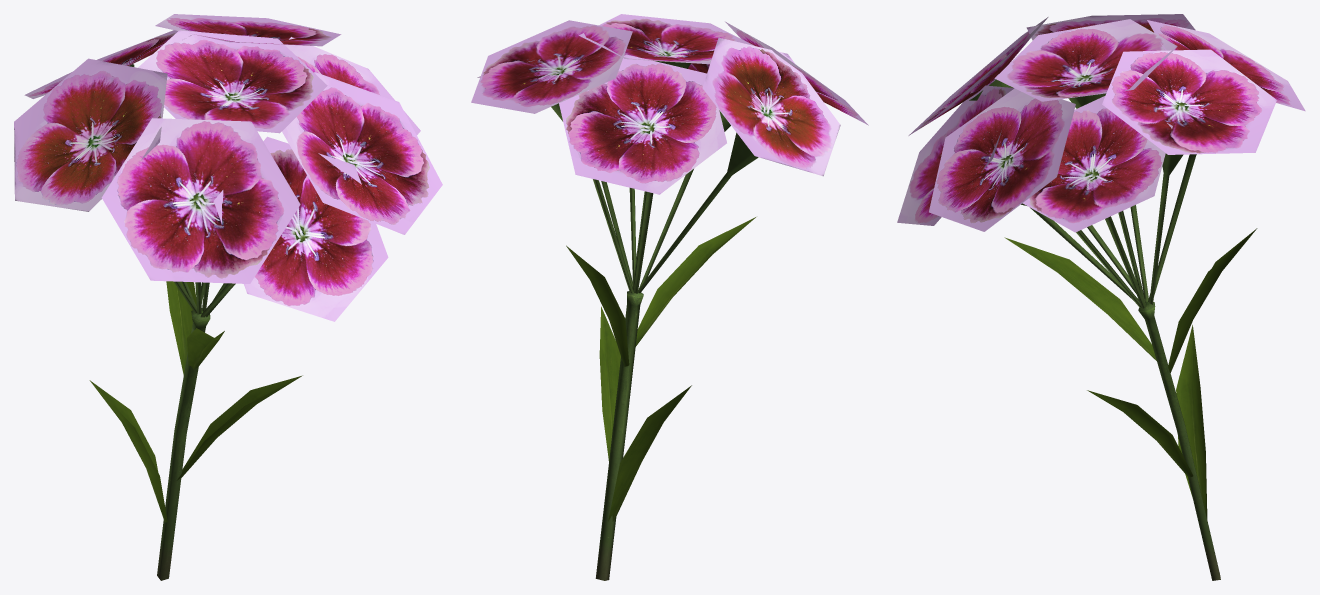
The model's file is sweet william.FBX.
3 views of the same model, side by side, from view 1: azimuth 30°, elevation 25°; view 2: azimuth 150°, elevation 25°; view 3: azimuth 270°, elevation 25° (orthographic). The views are drawn at different scales.
Visible parts, largest first — view 1: sweet william; view 2: sweet william; view 3: sweet william.
Part boxes in pixels (box(x1,y1,x2,y2)): sweet william: box(14, 14, 442, 580); sweet william: box(471, 14, 868, 580); sweet william: box(897, 14, 1305, 580).
Bounding box in the file's own units: 49.54 × 70.92 × 49.09.
